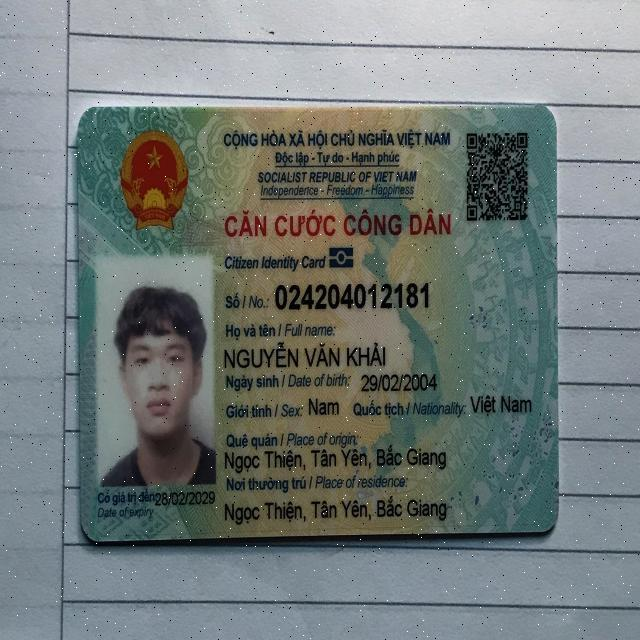current_place: (223, 493, 452, 527)
dob: (359, 371, 438, 394)
expire_date: (152, 486, 216, 514)
gender: (307, 394, 344, 418)
id: (272, 278, 433, 313)
name: (220, 338, 390, 368)
nationality: (469, 387, 533, 420)
origin_place: (220, 445, 447, 474)
